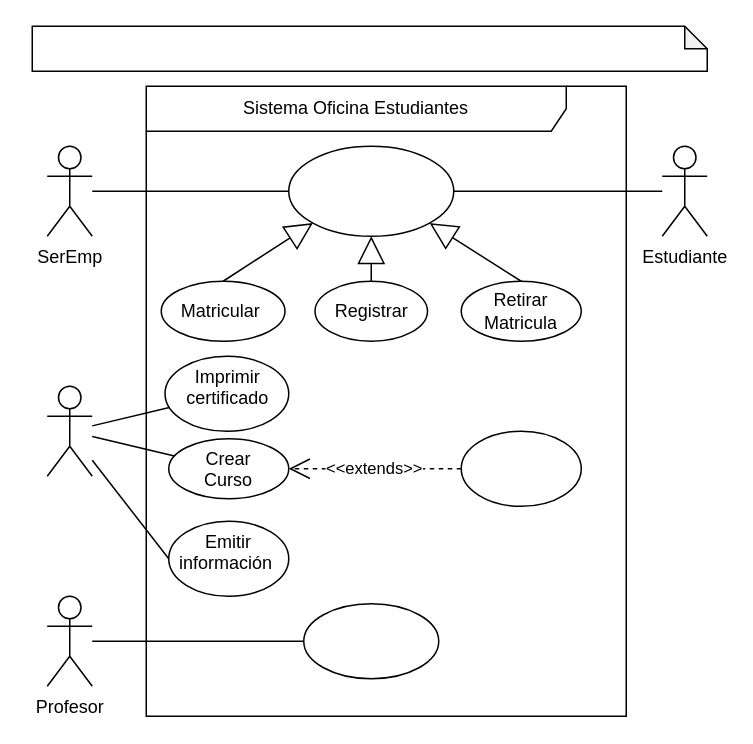
Image size: 753x744. Some labels were removed from this diagram. Here are the shapes that lost their labels. From the top down, the centre of each, then its label:
At [369,48]: "Karen Brigith Gonzaga Rivas".
At [370,190]: "<<abstract>> Gestiona datos estudiantes".
At [69,430]: "AdminEmp".
At [520,468]: "Reservar sala".
At [370,640]: "Enviar calificación".
